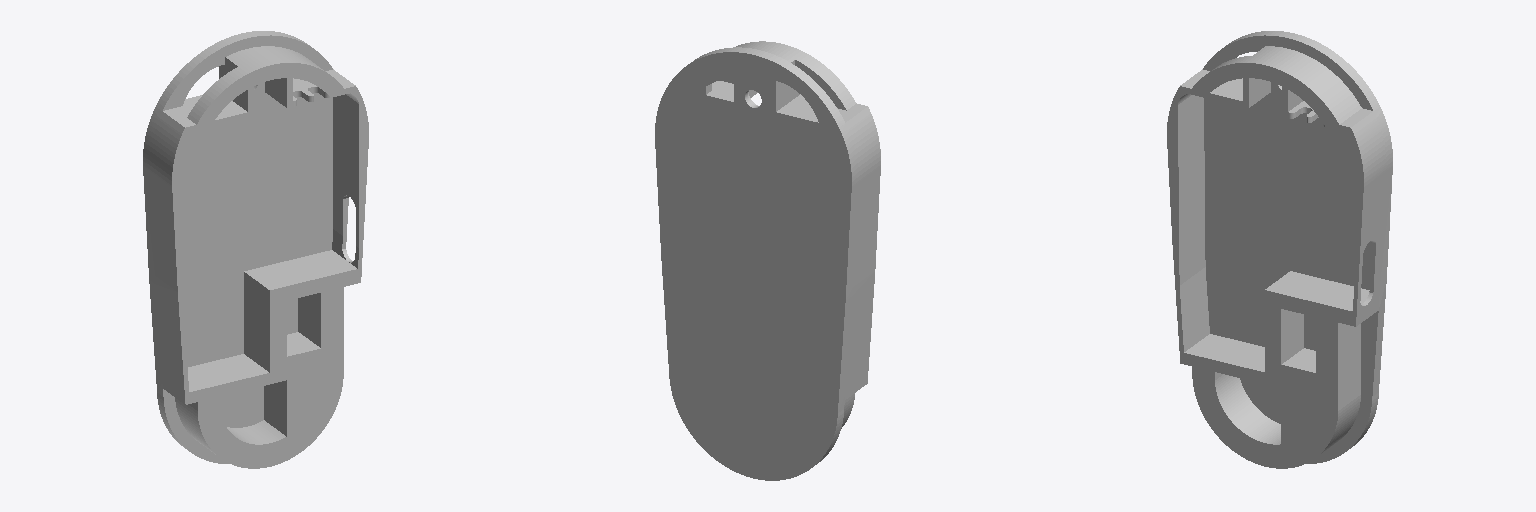
Rendered from comando-bottom-v1.0.obj.
3 renders of one model, left to right at view 1: azimuth 30°, elevation 25°; view 2: azimuth 150°, elevation 25°; view 3: azimuth 330°, elevation 25°, orthographic.
Parts seen in each view (by area): view 1: mesh65, mesh74, mesh70, mesh44, mesh42, mesh63, mesh34, mesh35, mesh62, mesh61, mesh53, mesh84 (+8 smaller); view 2: mesh7, mesh44, mesh42, mesh53, mesh35, mesh43, mesh41, mesh39; view 3: mesh65, mesh74, mesh59, mesh35, mesh69, mesh81, mesh49, mesh34, mesh63, mesh60, mesh50, mesh61 (+7 smaller).
Part boxes in pixels (left/top/right/bottom): mesh65: left=183, top=92, right=332, bottom=366; mesh74: left=172, top=63, right=368, bottom=468; mesh70: left=333, top=94, right=358, bottom=247; mesh44: left=155, top=276, right=185, bottom=404; mesh42: left=150, top=172, right=177, bottom=291; mesh63: left=244, top=250, right=356, bottom=289; mesh34: left=163, top=35, right=332, bottom=110; mesh35: left=187, top=46, right=325, bottom=124; mesh62: left=244, top=272, right=269, bottom=372; mesh61: left=188, top=354, right=268, bottom=391; mesh53: left=143, top=31, right=309, bottom=169; mesh84: left=220, top=386, right=263, bottom=427; mesh7: left=655, top=52, right=851, bottom=480; mesh44: left=845, top=272, right=874, bottom=399; mesh42: left=853, top=167, right=880, bottom=286; mesh53: left=688, top=47, right=857, bottom=186; mesh35: left=736, top=41, right=855, bottom=109; mesh43: left=838, top=184, right=857, bottom=412; mesh41: left=849, top=113, right=880, bottom=182; mesh39: left=777, top=94, right=867, bottom=122; mesh65: left=1204, top=92, right=1369, bottom=346; mesh74: left=1167, top=63, right=1363, bottom=468; mesh59: left=1178, top=95, right=1205, bottom=284; mesh35: left=1210, top=46, right=1361, bottom=124; mesh69: left=1356, top=172, right=1385, bottom=326; mesh81: left=1215, top=374, right=1280, bottom=444; mesh49: left=1307, top=311, right=1378, bottom=463; mesh34: left=1203, top=35, right=1372, bottom=110; mesh63: left=1265, top=271, right=1369, bottom=310; mesh60: left=1180, top=267, right=1209, bottom=351; mesh50: left=1338, top=323, right=1360, bottom=410; mesh61: left=1184, top=334, right=1264, bottom=371.
Size of the model in its own units: 0.0351 by 0.072 by 0.009.